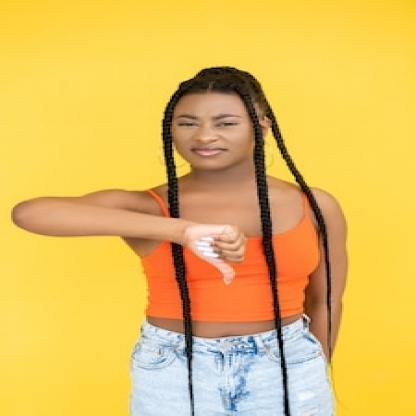thumb_down: (182, 217, 252, 288)
